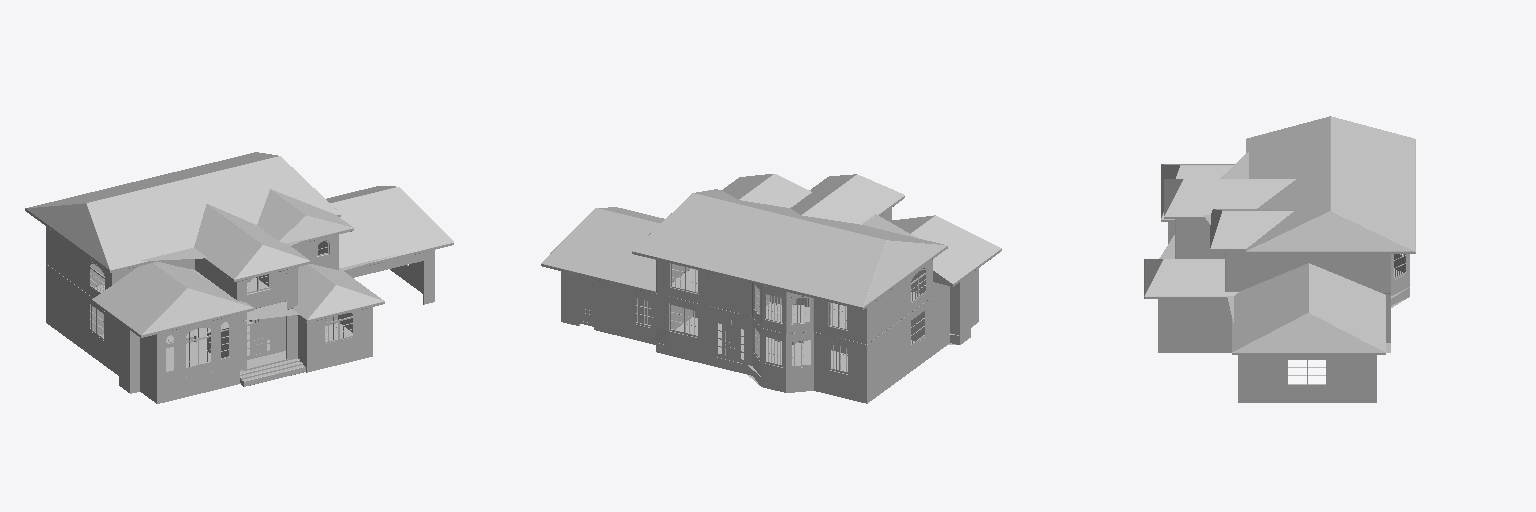
The model's file is mansion.obj.
3 renders of one model, left to right at view 1: azimuth 30°, elevation 25°; view 2: azimuth 150°, elevation 25°; view 3: azimuth 270°, elevation 25°, orthographic.
Visible parts, largest first — view 1: the_mansion; view 2: the_mansion; view 3: the_mansion.
Part boxes in pixels (x1,y1,x2,y2): the_mansion: (25, 152, 453, 403); the_mansion: (541, 174, 1001, 403); the_mansion: (1144, 116, 1415, 402).
Bounding box in the file's own units: 3.56 × 1.35 × 2.4.